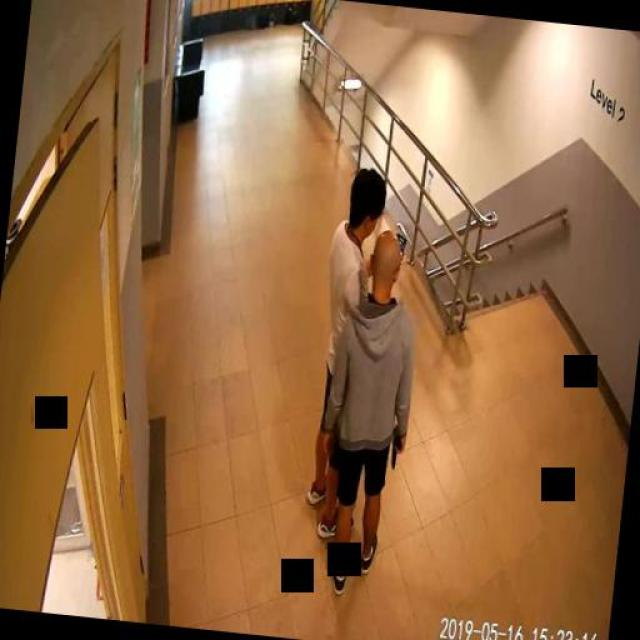gun: (389, 425, 406, 467)
